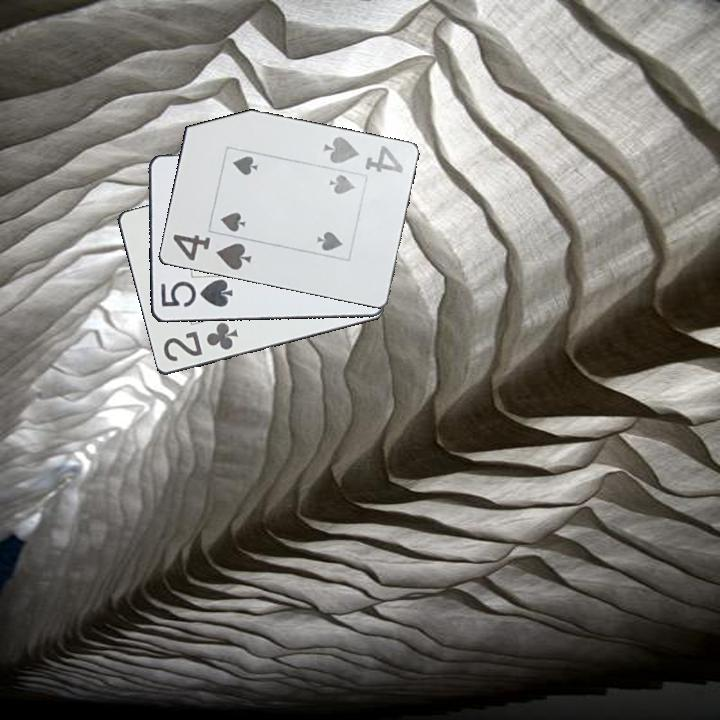2c: (159, 319, 241, 365)
4s: (320, 133, 406, 176), (169, 231, 254, 273)
5s: (157, 278, 235, 310)
